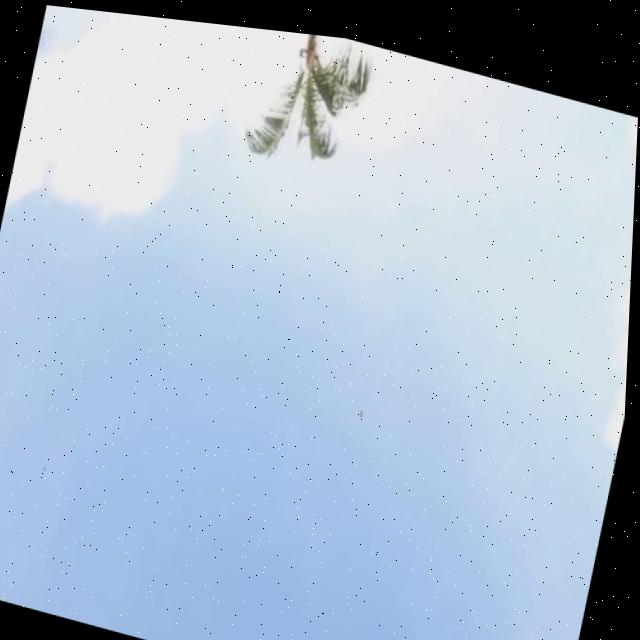drones: (353, 388, 374, 430)
